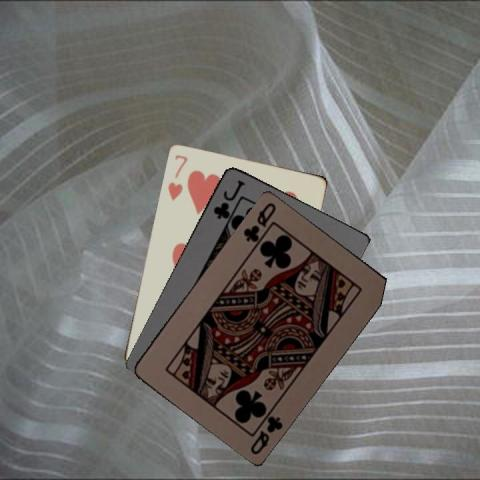7h: (165, 151, 189, 202)
Jc: (210, 176, 245, 221)
Qc: (240, 199, 278, 243), (246, 412, 284, 456)
